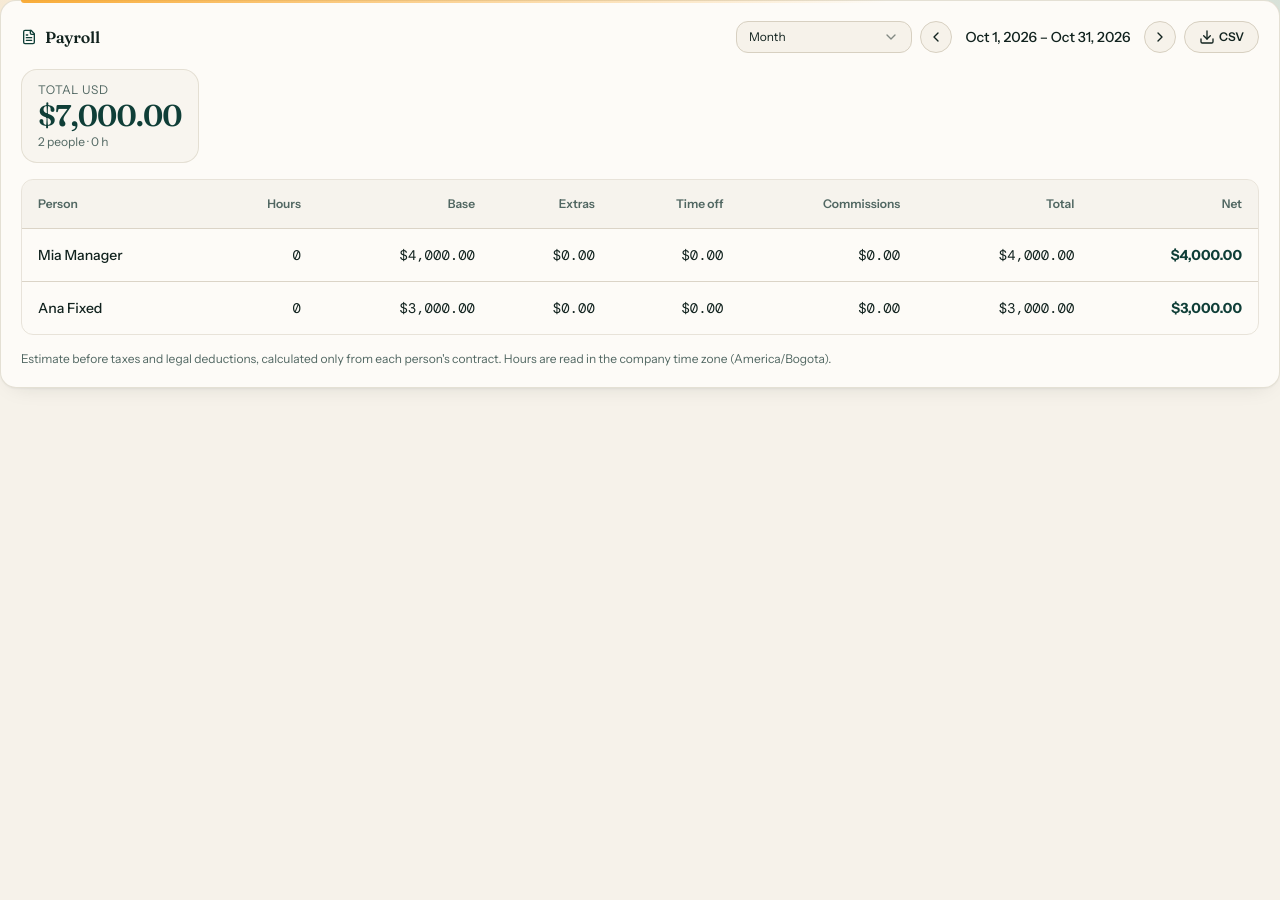
Test: PayrollPanel › a manager cannot add commissions to his own payroll row, but can view it
This screenshot has width=1280, height=900.
Click the cell "Mia Manager": click(116, 254) top-left (22, 228), bottom-right (211, 281)
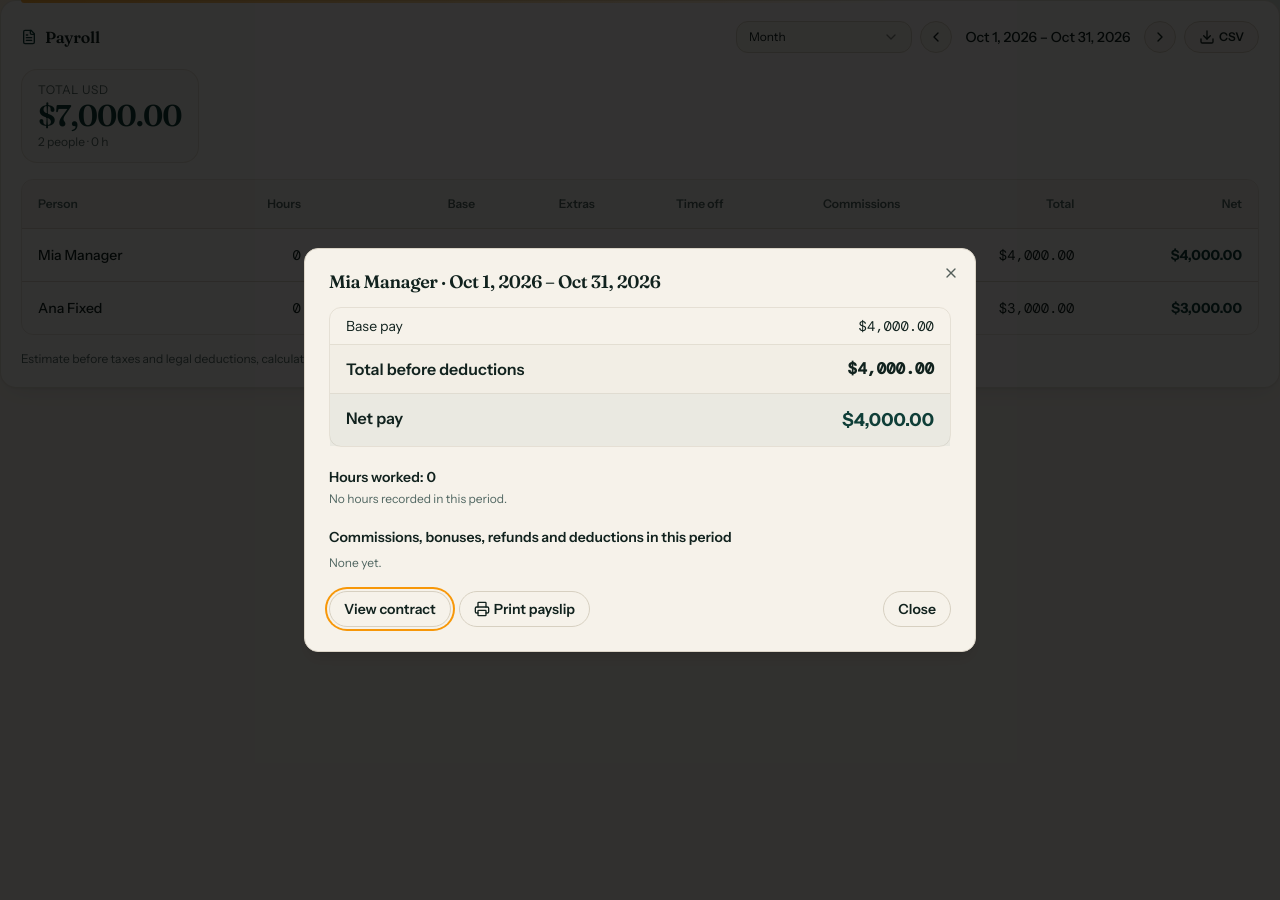
Expected: the text "Commissions, bonuses, refunds and deductions in this period" is shown, top-left (329, 528), bottom-right (732, 546)
Click the button "Close": click(917, 609) top-left (883, 591), bottom-right (951, 627)
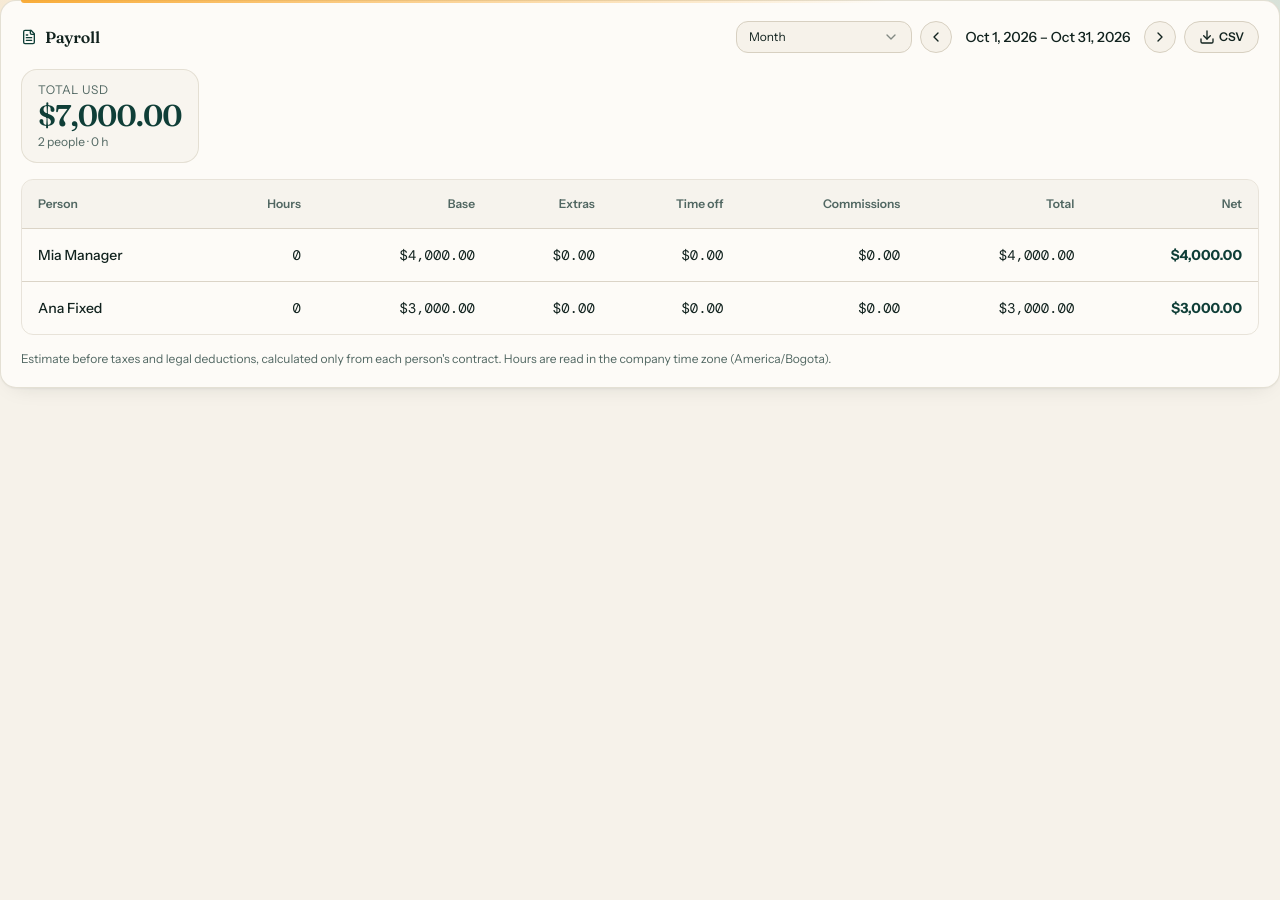
Click the cell "Ana Fixed": click(70, 308) top-left (22, 281), bottom-right (211, 334)
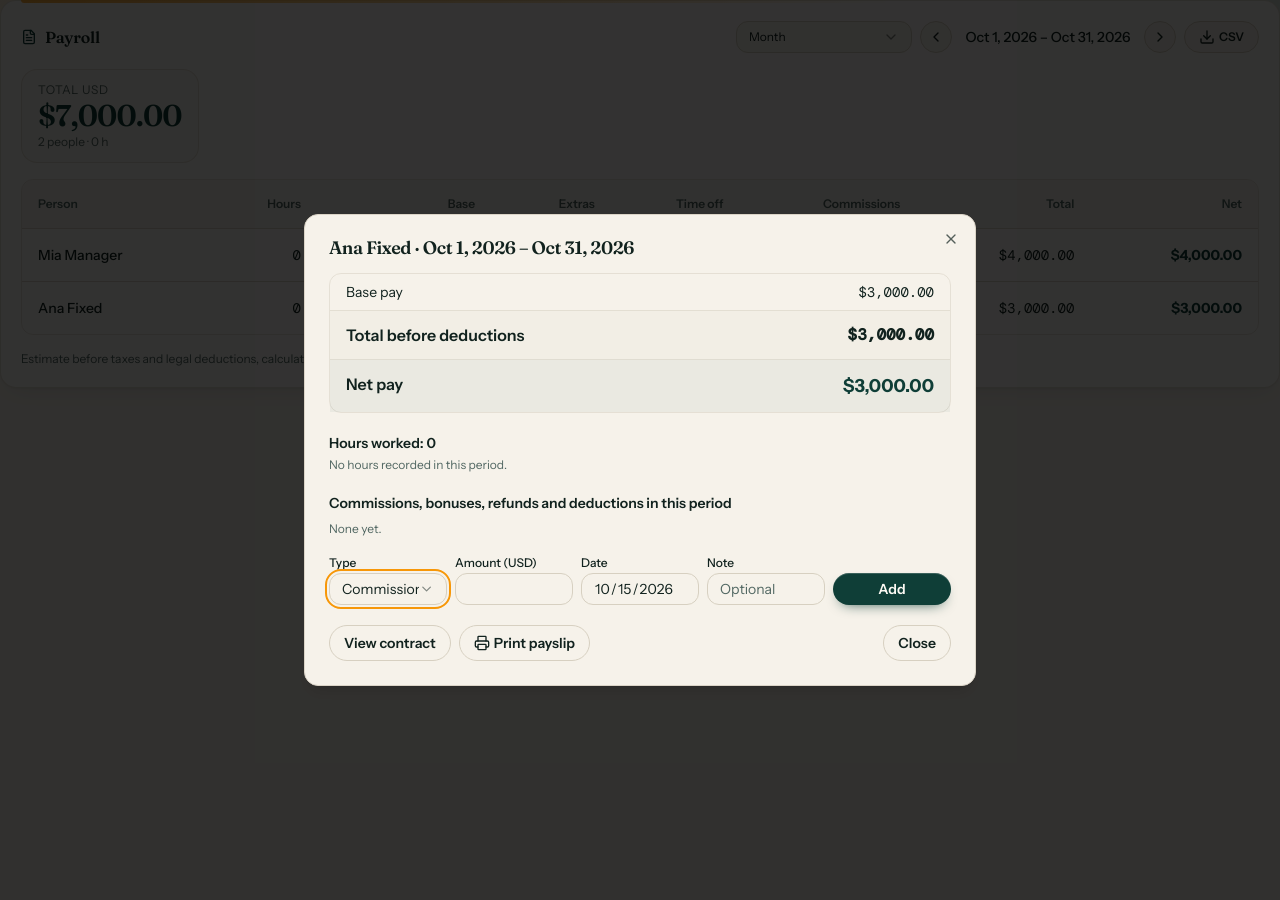
Expected: the number field is shown, top-left (455, 573), bottom-right (573, 605)
